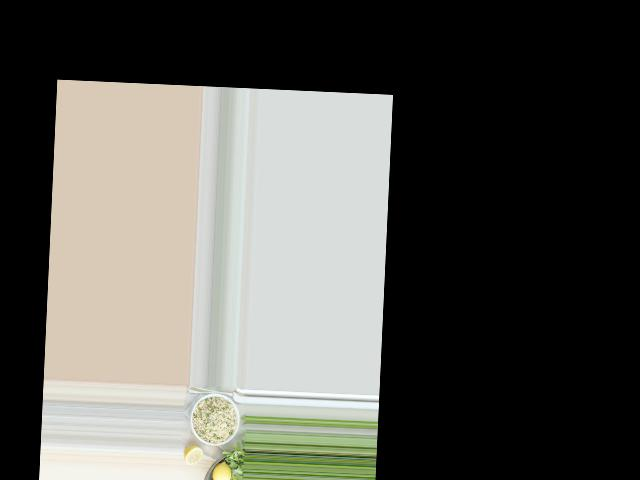lemon: (214, 462, 231, 480)
